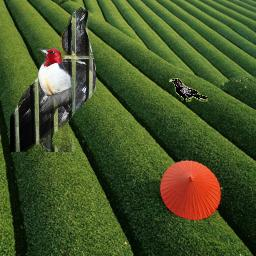Crow: (10, 7, 96, 152), (169, 78, 208, 102)
Woodpecker: (36, 48, 74, 123)
